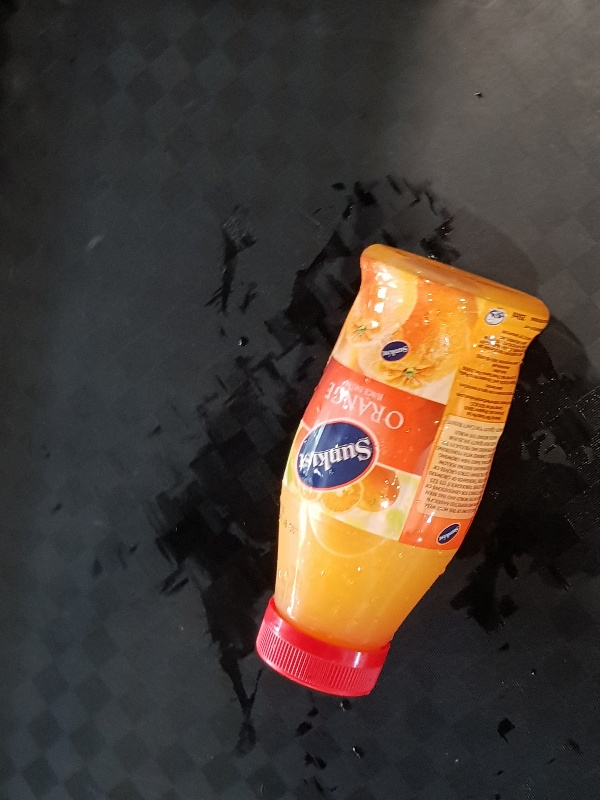Sunkist Orange Juice Drink: (253, 242, 551, 700)
